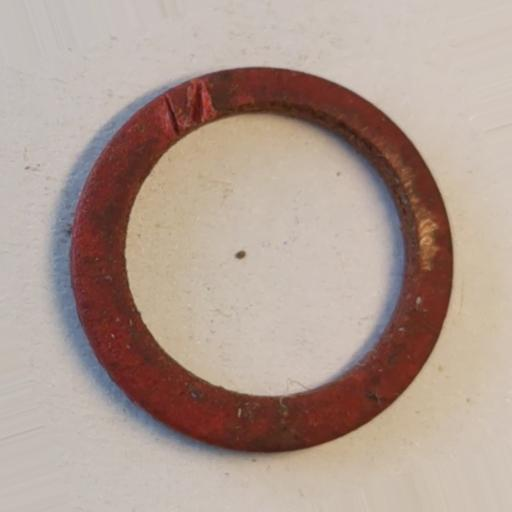defect: (163, 77, 216, 141)
